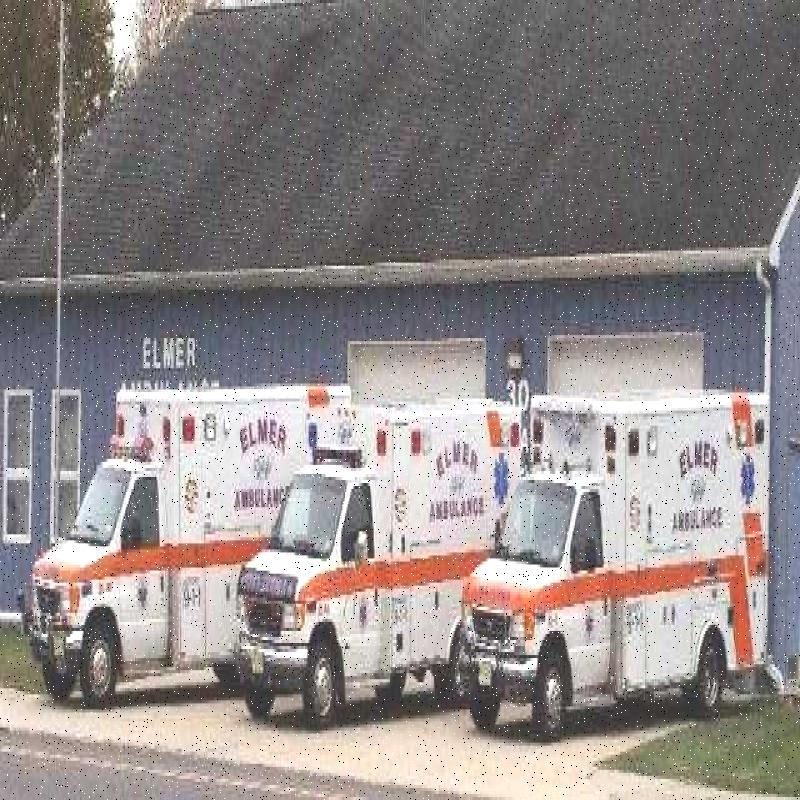AmbulanceSiren: (181, 406, 222, 447)
